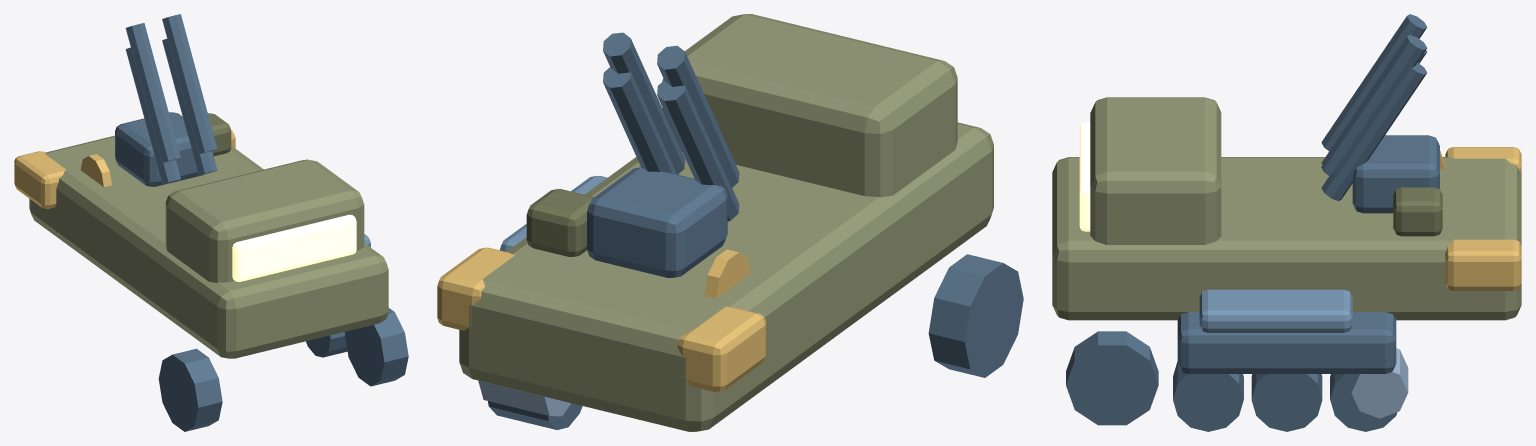
File: com_flak_track.glb
3 renders of one model, left to right at view 1: azimuth 30°, elevation 25°; view 2: azimuth 150°, elevation 25°; view 3: azimuth 270°, elevation 25°, orthographic. The views are drawn at different scales.
Visible parts, largest first — view 1: com_flak_track; view 2: com_flak_track; view 3: com_flak_track.
Part boxes in pixels (box(x1,y1,x2,y2)): com_flak_track: box(14, 14, 408, 431); com_flak_track: box(437, 14, 1023, 431); com_flak_track: box(1052, 14, 1521, 431).
Bounding box in the file's own units: 0.575 × 0.6894 × 0.86.
